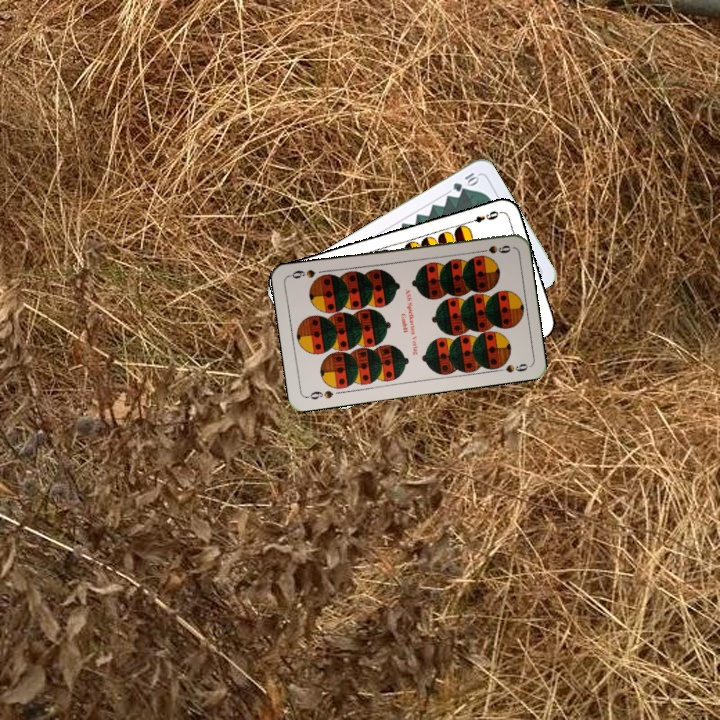E9: (463, 207, 503, 226)
G10: (449, 168, 482, 194)
S9: (473, 241, 514, 256), (303, 386, 336, 402)
